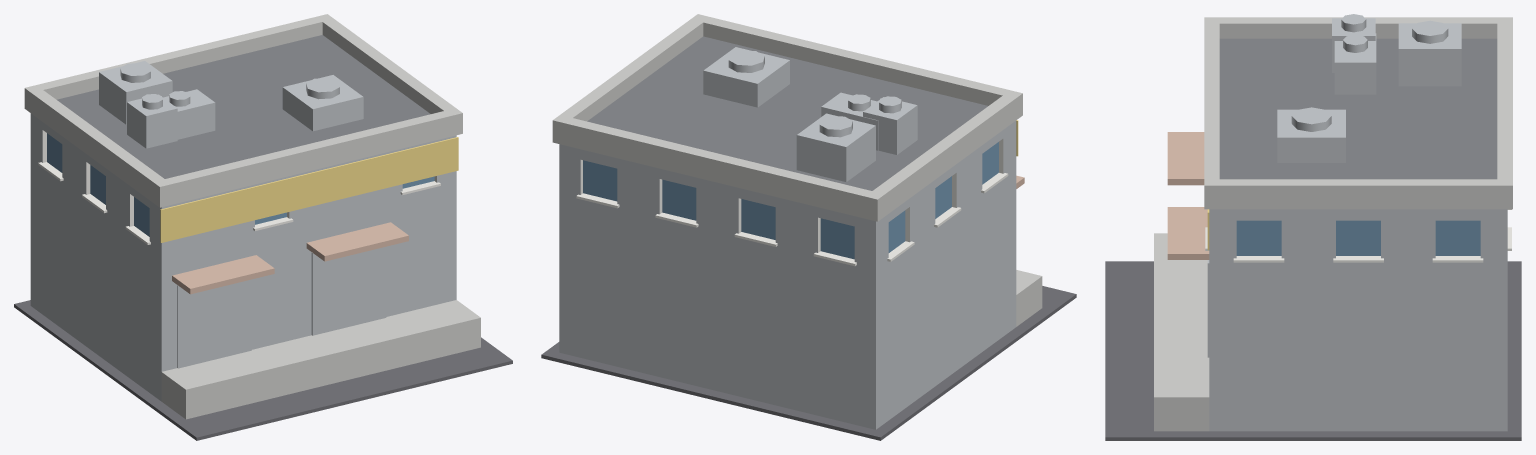
3 views of the same model, side by side, from view 1: azimuth 30°, elevation 25°; view 2: azimuth 150°, elevation 25°; view 3: azimuth 270°, elevation 25° (orthographic). The views are drawn at different scales.
Parts seen in each view (by area): view 1: i_2_1_b; view 2: i_2_1_b; view 3: i_2_1_b.
Boxes of the visible parts, box(x1,y1,x2,y2) form: i_2_1_b: box(14, 14, 512, 440); i_2_1_b: box(541, 14, 1076, 440); i_2_1_b: box(1105, 14, 1521, 440).
Bounding box in the file's own units: 12 × 8.97 × 12.
